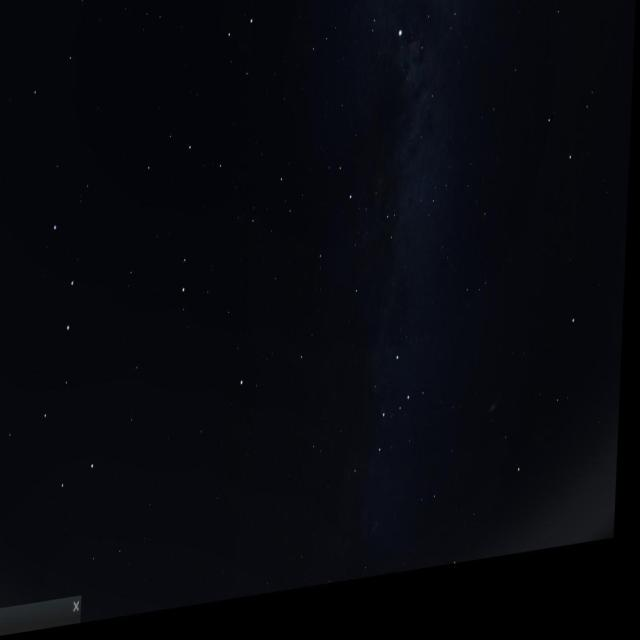cassiopeia: (340, 356, 437, 513)
cygnus: (342, 0, 458, 69)
ursa_major: (30, 213, 117, 516)
